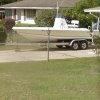Boat: (9, 14, 97, 59)
